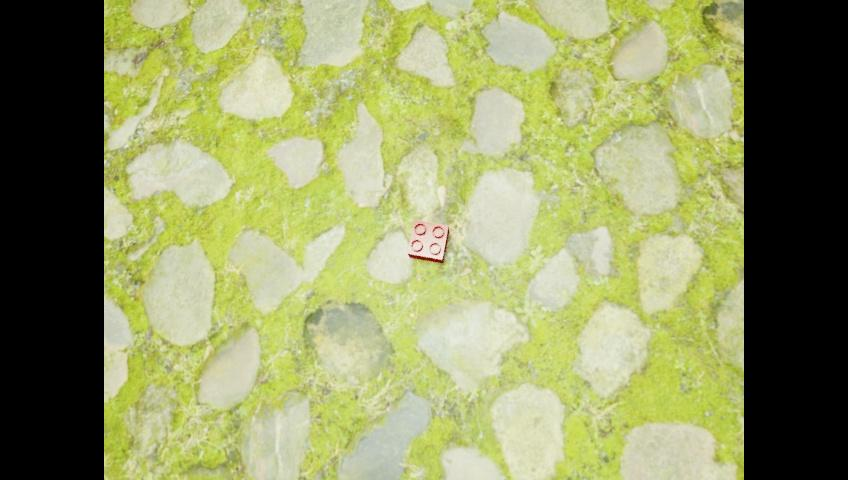2x2_red: (407, 219, 448, 263)
